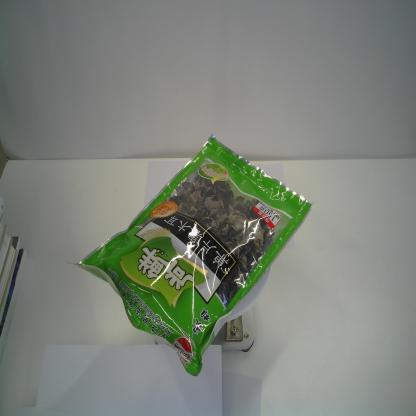Dried Food: (65, 133, 315, 376)
